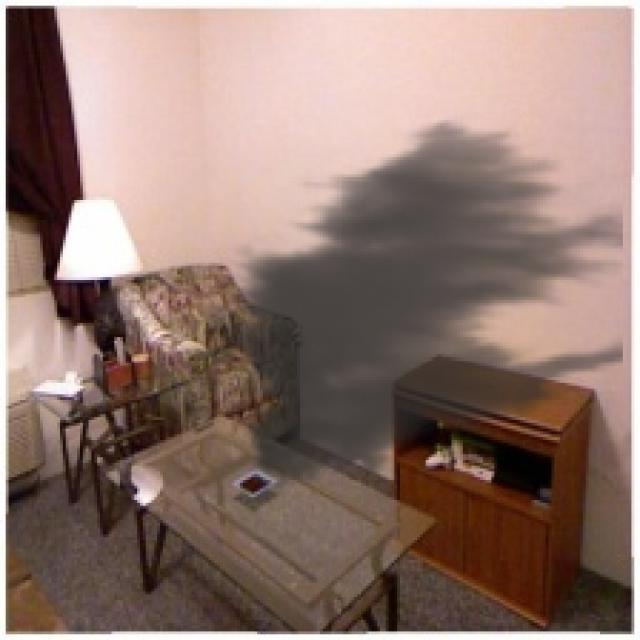Smoke: (211, 108, 623, 503)
